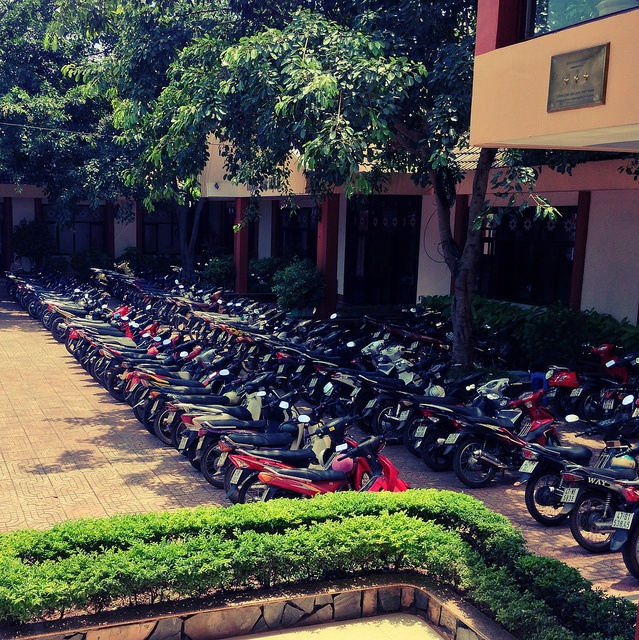non-vehicle: (513, 394, 639, 527), (200, 383, 344, 491), (223, 408, 372, 504), (238, 430, 411, 504), (442, 385, 561, 488), (415, 375, 529, 472), (303, 316, 407, 403), (560, 441, 639, 554), (164, 362, 266, 449), (191, 389, 300, 468), (356, 360, 455, 439), (88, 325, 173, 385), (51, 304, 107, 341)
